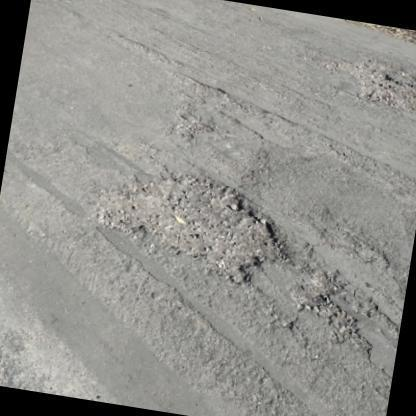pothole: (90, 170, 283, 276), (290, 272, 369, 349), (337, 57, 416, 116)
